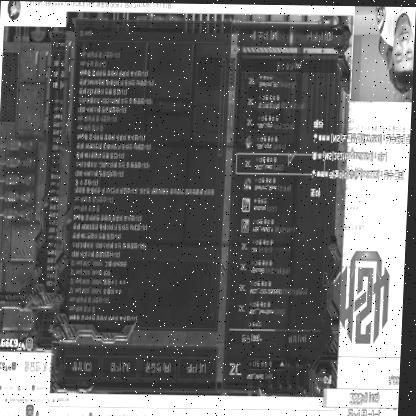streamer: (369, 4, 416, 93)
